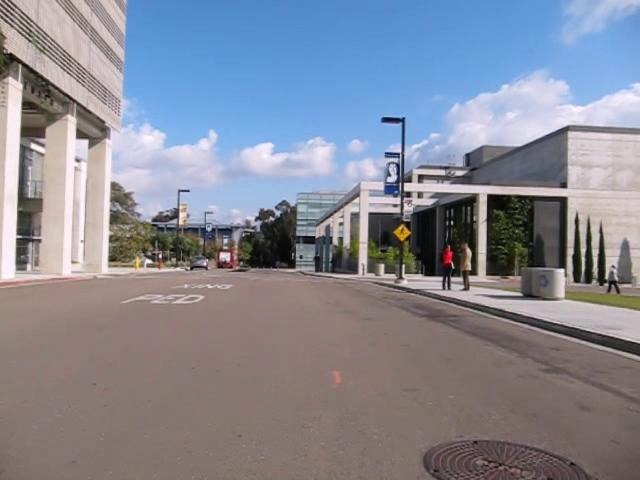pedestrianCrossing: (392, 221, 412, 242)
